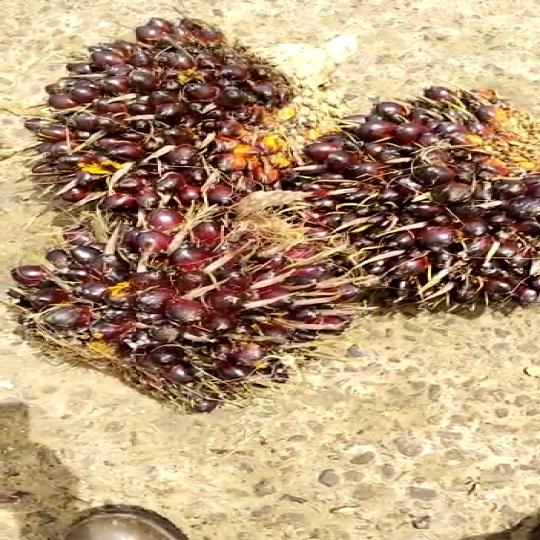kurang masak: (297, 96, 540, 358), (13, 16, 291, 228), (51, 203, 304, 431)
